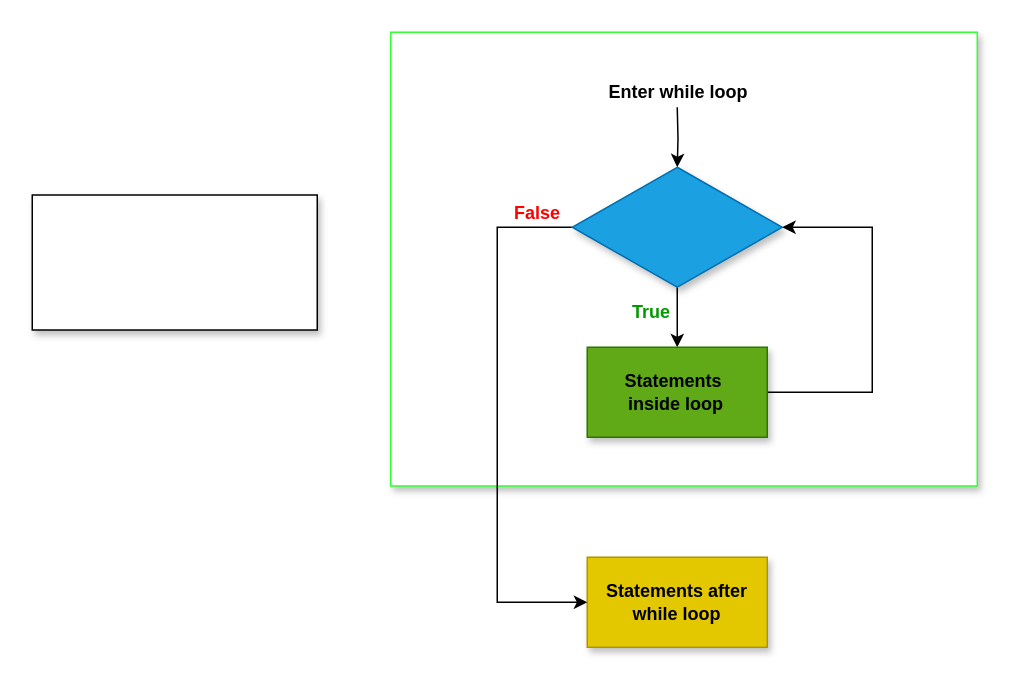
Some shapes in this 1013 by 684 pixel diagram are drawn without their labels. The shapes that lost their labels are listed below. From the top down, each one's centre as x and y in pixels, then its label:
the point at 678,229: condition
the point at 175,264: x = 0 while x < 4: print(x) x += 1
